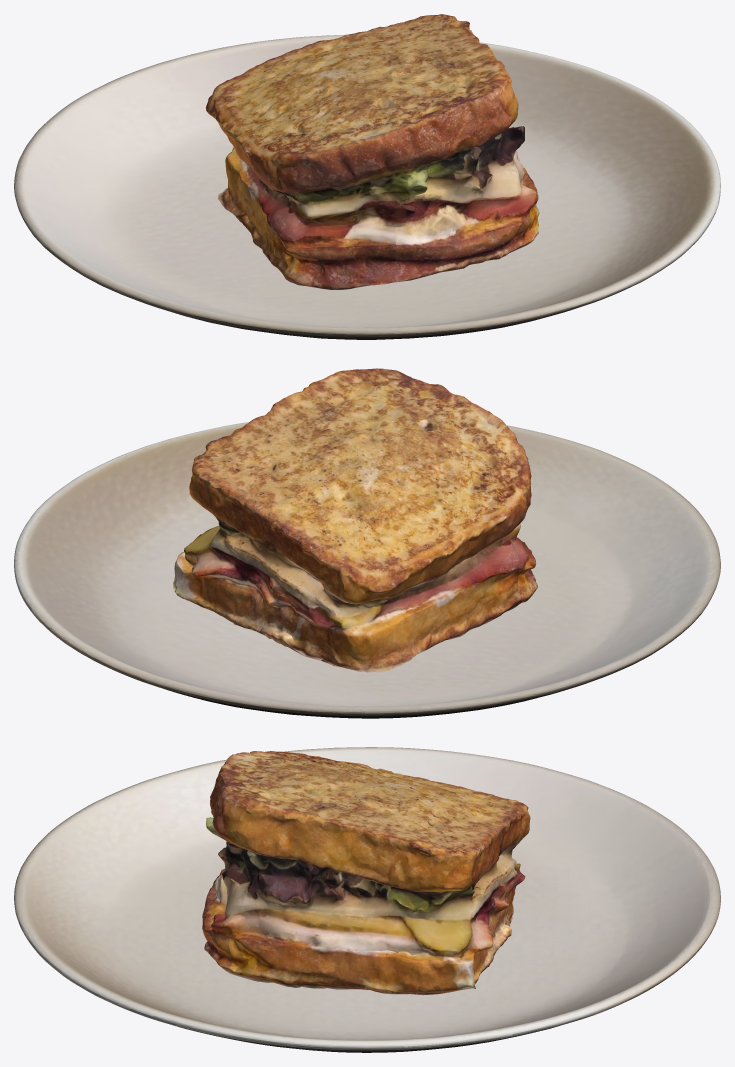
The model's file is set.Doublefrench.toast.001.glb.
The picture shows the model from 3 angles, top to bottom: view 1: azimuth 30°, elevation 25°; view 2: azimuth 150°, elevation 25°; view 3: azimuth 270°, elevation 25°; orthographic projection.
Visible parts, largest first — view 1: /Root/Scenes/Scene/Object_45/Object_49/Object_50/Submesh_0, /Root/Scenes/Scene/Object_45/Object_46/Submesh_0; view 2: /Root/Scenes/Scene/Object_45/Object_49/Object_50/Submesh_0, /Root/Scenes/Scene/Object_45/Object_46/Submesh_0; view 3: /Root/Scenes/Scene/Object_45/Object_49/Object_50/Submesh_0, /Root/Scenes/Scene/Object_45/Object_46/Submesh_0.
Boxes of the visible parts, x1=… form: /Root/Scenes/Scene/Object_45/Object_49/Object_50/Submesh_0: x1=14, y1=34, x2=720, y2=339; /Root/Scenes/Scene/Object_45/Object_46/Submesh_0: x1=206, y1=14, x2=539, y2=289; /Root/Scenes/Scene/Object_45/Object_49/Object_50/Submesh_0: x1=14, y1=422, x2=720, y2=718; /Root/Scenes/Scene/Object_45/Object_46/Submesh_0: x1=173, y1=368, x2=537, y2=672; /Root/Scenes/Scene/Object_45/Object_49/Object_50/Submesh_0: x1=14, y1=747, x2=720, y2=1052; /Root/Scenes/Scene/Object_45/Object_46/Submesh_0: x1=202, y1=751, x2=530, y2=995.
Size of the model in its own units: 0.2815 by 0.0782 by 0.2815.
Materials: 2 (2 with a texture image).
